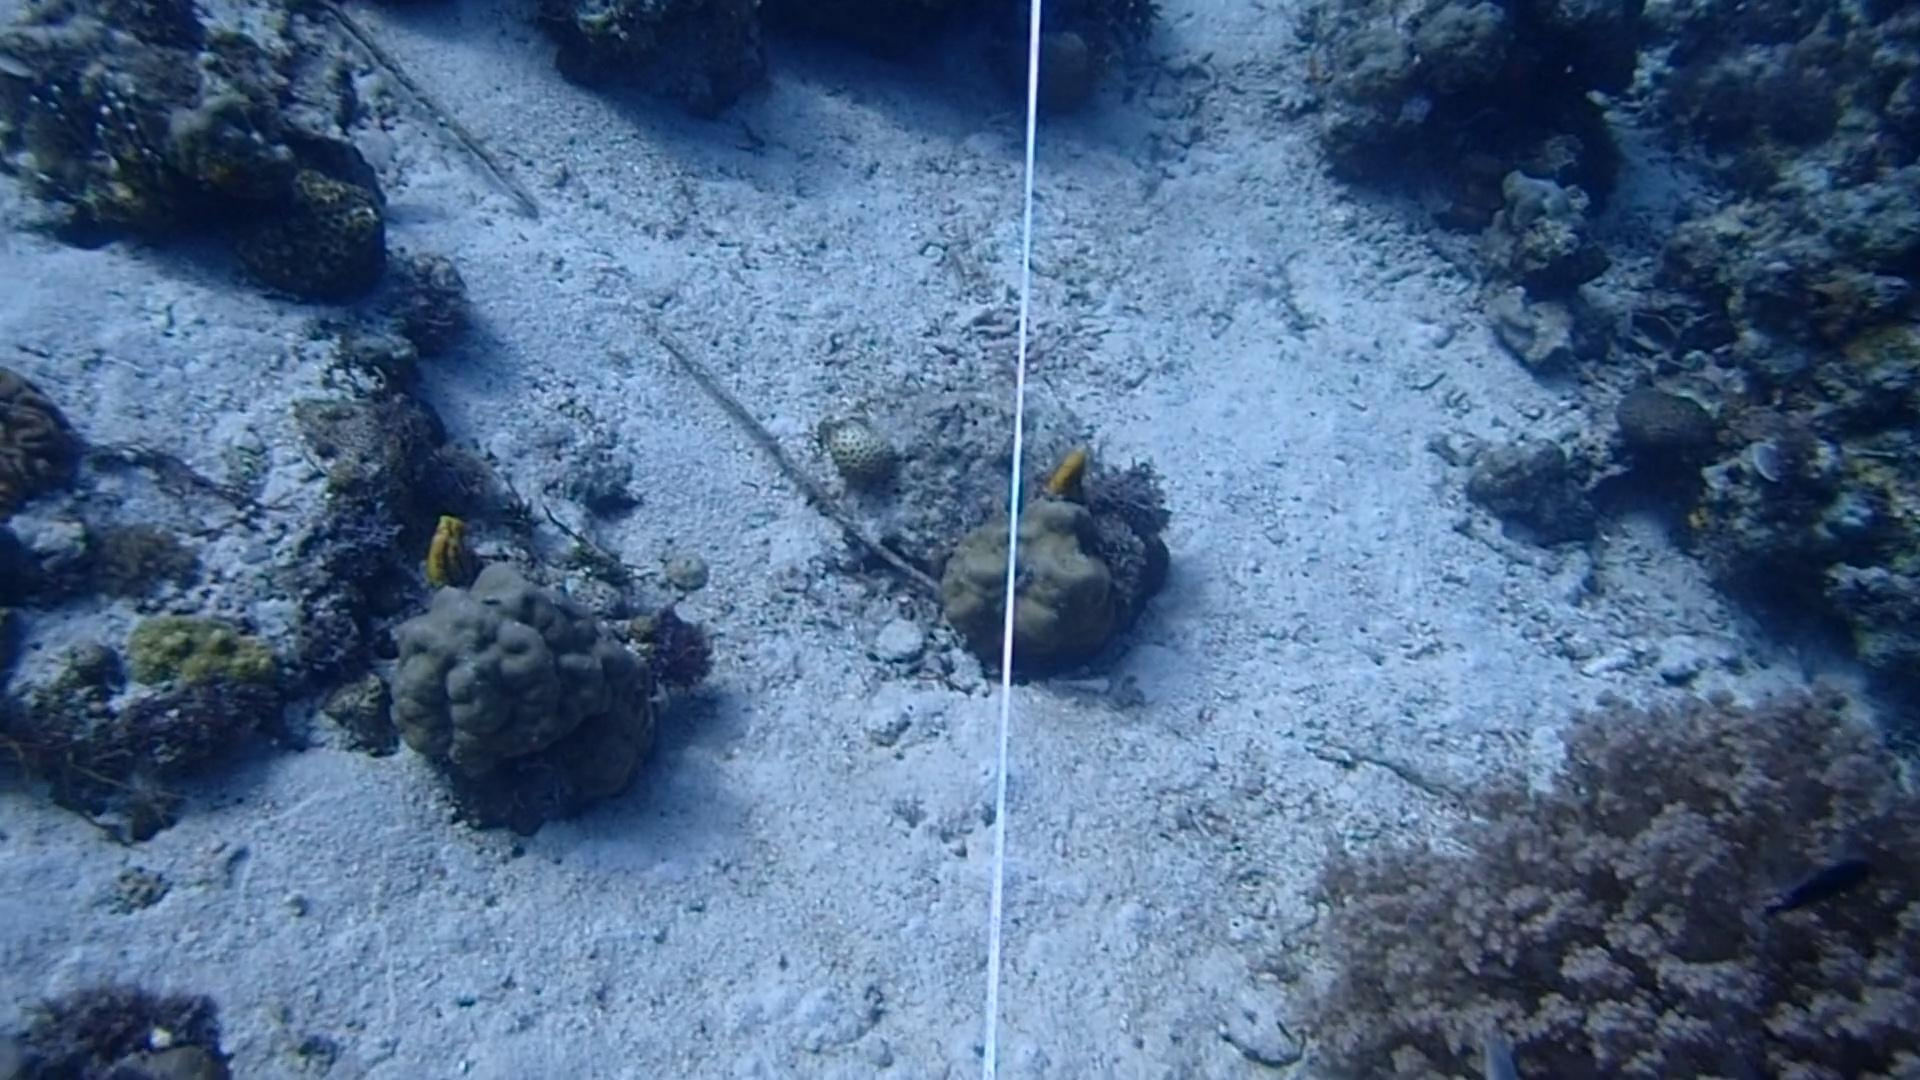Dark Fish: (1749, 845, 1898, 934)
